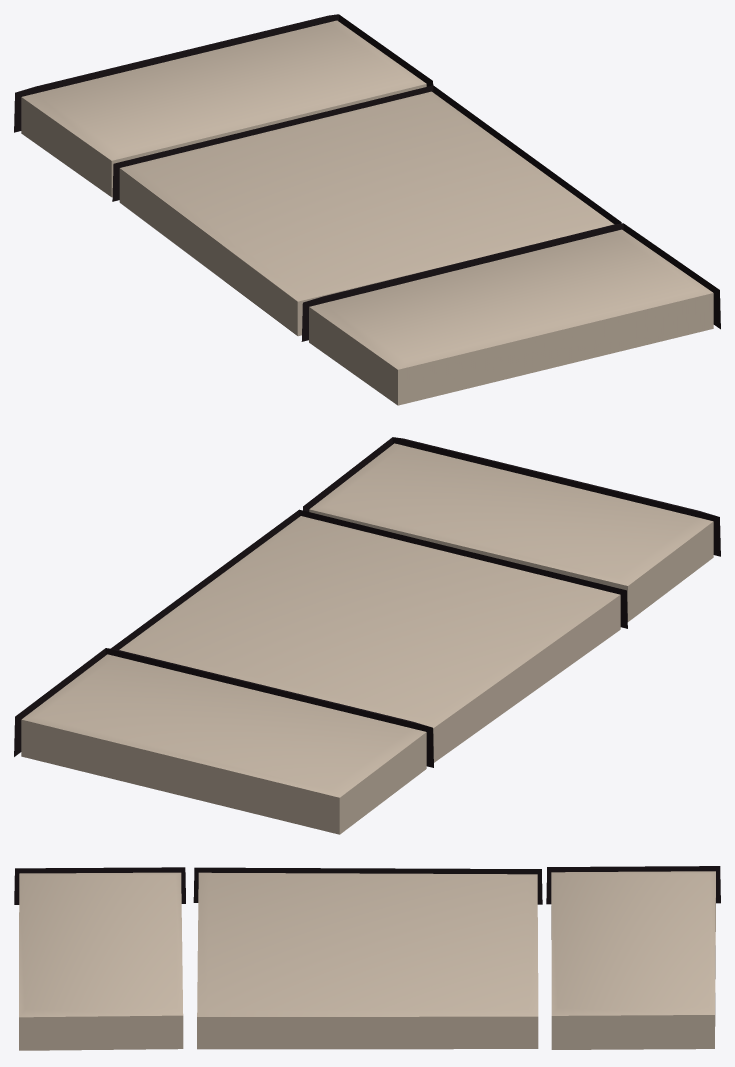
Rendered from SM_Trail_Paving_02.fbx.
The picture shows the model from 3 angles, top to bottom: view 1: azimuth 30°, elevation 25°; view 2: azimuth 150°, elevation 25°; view 3: azimuth 270°, elevation 25°; orthographic projection. The views are drawn at different scales.
Parts seen in each view (by area): view 1: SM_Trail_Paving_02; view 2: SM_Trail_Paving_02; view 3: SM_Trail_Paving_02.
Part boxes in pixels (x1,y1,x2,y2): SM_Trail_Paving_02: (14, 14, 720, 405); SM_Trail_Paving_02: (14, 437, 720, 834); SM_Trail_Paving_02: (14, 866, 720, 1050).
Bounding box in the file's own units: 1.5 × 0.2009 × 2.99.
